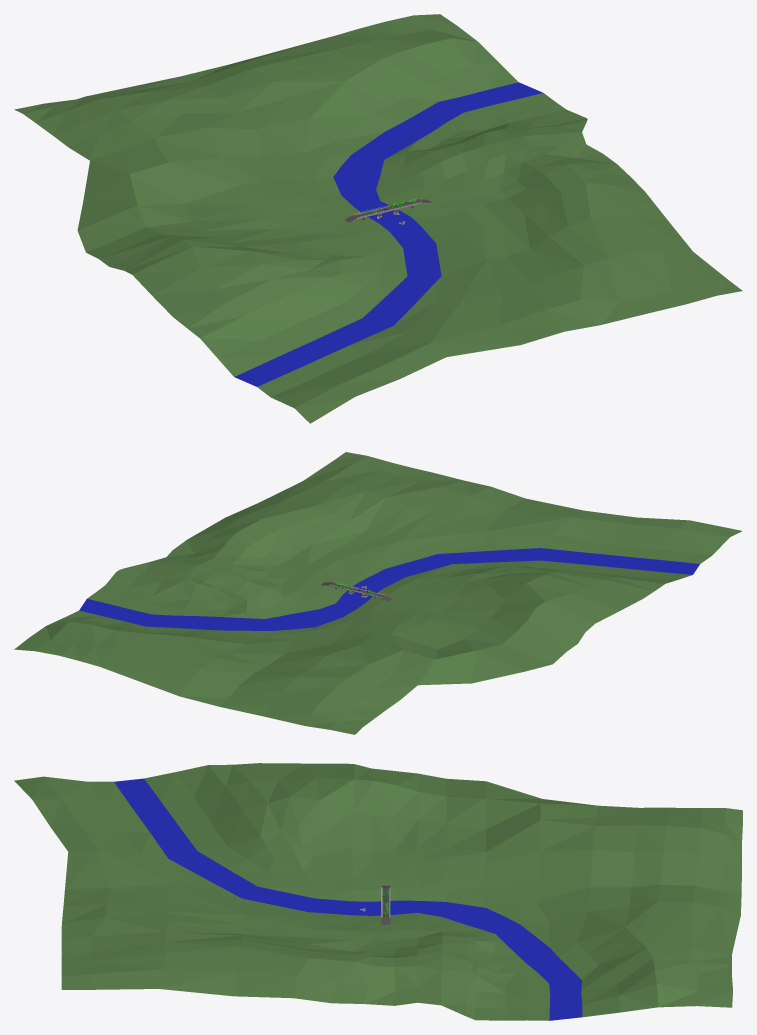
File: MP_Bridge.fbx
3 renders of one model, top to bottom at view 1: azimuth 30°, elevation 25°; view 2: azimuth 150°, elevation 25°; view 3: azimuth 270°, elevation 25°, orthographic. The views are drawn at different scales.
Parts seen in each view (by area): view 1: landscape; view 2: landscape; view 3: landscape.
Boxes of the visible parts, x1,y1,x2,y2 form: landscape: (14, 14, 742, 423); landscape: (14, 452, 742, 734); landscape: (14, 763, 742, 1020).
Bounding box in the file's own units: 97872 × 6770 × 123347.
